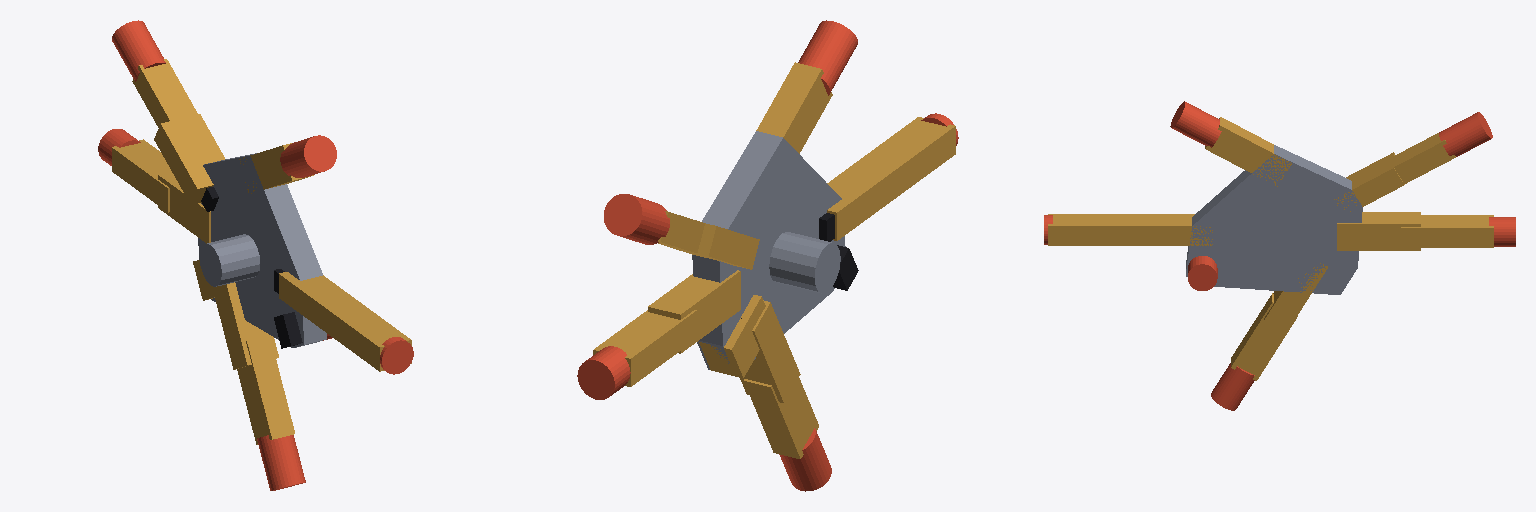
robot.urdf — g0008_c01:
<robot name="g0008_c01">
  <link name="palm">
    <visual name="palm_palm1">
      <origin xyz="0 0 0" rpy="0 0 0" />
      <geometry>
        <mesh filename="palm_palm1.obj" />
      </geometry>
      <material name="palm_palm1_mat">
        <color rgba="0.55 0.57 0.62 1" />
      </material>
    </visual>
    <collision>
      <origin xyz="0 0 0" rpy="0 0 0" />
      <geometry>
        <mesh filename="palm_palm1.obj" />
      </geometry>
    </collision>
    <visual name="palm_mount2">
      <origin xyz="0 0 0" rpy="0 0 0" />
      <geometry>
        <mesh filename="palm_mount2.obj" />
      </geometry>
      <material name="palm_mount2_mat">
        <color rgba="0.55 0.57 0.62 1" />
      </material>
    </visual>
    <collision>
      <origin xyz="0 0 0" rpy="0 0 0" />
      <geometry>
        <mesh filename="palm_mount2.obj" />
      </geometry>
    </collision>
    <visual name="palm_motor3">
      <origin xyz="-0.007 -0.08 -0.04" rpy="1.06057524e-16 -1.04719755 1.57079633" />
      <geometry>
        <box size="0.029 0.034 0.02" />
      </geometry>
      <material name="palm_motor3_mat">
        <color rgba="0.15 0.15 0.17 1" />
      </material>
    </visual>
    <collision>
      <origin xyz="-0.007 -0.08 -0.04" rpy="1.06057524e-16 -1.04719755 1.57079633" />
      <geometry>
        <box size="0.029 0.034 0.02" />
      </geometry>
    </collision>
    <visual name="palm_motor4">
      <origin xyz="-0.0045 -0.0725 1.37772765e-18" rpy="1.8369702e-16 -6.123234e-17 -1.12481984e-32" />
      <geometry>
        <box size="0.029 0.034 0.02" />
      </geometry>
      <material name="palm_motor4_mat">
        <color rgba="0.15 0.15 0.17 1" />
      </material>
    </visual>
    <collision>
      <origin xyz="-0.0045 -0.0725 1.37772765e-18" rpy="1.8369702e-16 -6.123234e-17 -1.12481984e-32" />
      <geometry>
        <box size="0.029 0.034 0.02" />
      </geometry>
    </collision>
    <visual name="palm_motor5">
      <origin xyz="0 0.00649519053 0.07625" rpy="-1.57079633 -1.04719755 1.57079633" />
      <geometry>
        <box size="0.029 0.034 0.02" />
      </geometry>
      <material name="palm_motor5_mat">
        <color rgba="0.15 0.15 0.17 1" />
      </material>
    </visual>
    <collision>
      <origin xyz="0 0.00649519053 0.07625" rpy="-1.57079633 -1.04719755 1.57079633" />
      <geometry>
        <box size="0.029 0.034 0.02" />
      </geometry>
    </collision>
    <visual name="palm_motor6">
      <origin xyz="-0.0045 0.0666996732 -0.0467548095" rpy="1.57079633 -0.523598776 -1.57079633" />
      <geometry>
        <box size="0.029 0.034 0.02" />
      </geometry>
      <material name="palm_motor6_mat">
        <color rgba="0.15 0.15 0.17 1" />
      </material>
    </visual>
    <collision>
      <origin xyz="-0.0045 0.0666996732 -0.0467548095" rpy="1.57079633 -0.523598776 -1.57079633" />
      <geometry>
        <box size="0.029 0.034 0.02" />
      </geometry>
    </collision>
    <visual name="palm_motor7">
      <origin xyz="0 0.0725 -4.5924255e-19" rpy="-3.14159265 1.57079633 0" />
      <geometry>
        <box size="0.029 0.034 0.02" />
      </geometry>
      <material name="palm_motor7_mat">
        <color rgba="0.15 0.15 0.17 1" />
      </material>
    </visual>
    <collision>
      <origin xyz="0 0.0725 -4.5924255e-19" rpy="-3.14159265 1.57079633 0" />
      <geometry>
        <box size="0.029 0.034 0.02" />
      </geometry>
    </collision>
    <visual name="palm_motor8">
      <origin xyz="-0.0045 0.0735048095 0.03625" rpy="-2.61799388 5.30287619e-17 3.061617e-17" />
      <geometry>
        <box size="0.029 0.034 0.02" />
      </geometry>
      <material name="palm_motor8_mat">
        <color rgba="0.15 0.15 0.17 1" />
      </material>
    </visual>
    <collision>
      <origin xyz="-0.0045 0.0735048095 0.03625" rpy="-2.61799388 5.30287619e-17 3.061617e-17" />
      <geometry>
        <box size="0.029 0.034 0.02" />
      </geometry>
    </collision>
    <inertial>
      <origin xyz="-2.43470265e-19 0.00452345107 0.0027561654" rpy="-1.57079633 0.24108336 -1.57079633" />
      <mass value="1.01470821" />
      <inertia ixx="0.00167691787" ixy="0" ixz="0" iyy="0.00255368598" iyz="0" izz="0.00413319186" />
    </inertial>
  </link>
  <link name="f0_link0">
    <visual name="f0_link0_link1">
      <origin xyz="0.019 0 -6.9388939e-18" rpy="-1.57079633 -0 -1.57079633" />
      <geometry>
        <cylinder radius="0.0165" length="0.029" />
      </geometry>
      <material name="f0_link0_link1_mat">
        <color rgba="0.85 0.35 0.25 1" />
      </material>
    </visual>
    <collision>
      <origin xyz="0.019 0 -6.9388939e-18" rpy="-1.57079633 -0 -1.57079633" />
      <geometry>
        <cylinder radius="0.0165" length="0.029" />
      </geometry>
    </collision>
    <inertial>
      <origin xyz="0.019 0 0" rpy="0 0 0" />
      <mass value="0.0763354" />
      <inertia ixx="9.49466441e-06" ixy="0" ixz="0" iyy="2.24143997e-05" iyz="0" izz="2.24143997e-05" />
    </inertial>
  </link>
  <link name="f1_link0">
    <visual name="f1_link0_link1">
      <origin xyz="0.03875 0 0" rpy="0 -0 0" />
      <geometry>
        <box size="0.1015 0.033 0.024" />
      </geometry>
      <material name="f1_link0_link1_mat">
        <color rgba="0.80 0.62 0.30 1" />
      </material>
    </visual>
    <collision>
      <origin xyz="0.03875 0 0" rpy="0 -0 0" />
      <geometry>
        <box size="0.1015 0.033 0.024" />
      </geometry>
    </collision>
    <inertial>
      <origin xyz="0.03875 0 0" rpy="0 0 0" />
      <mass value="0.140679" />
      <inertia ixx="1.95192113e-05" ixy="0" ixz="0" iyy="0.000127528444" iyz="0" izz="0.000133542472" />
    </inertial>
  </link>
  <link name="f1_link1">
    <visual name="f1_link1_link1">
      <origin xyz="0.03875 0 3.08148791e-33" rpy="0 -0 0" />
      <geometry>
        <box size="0.1015 0.033 0.024" />
      </geometry>
      <material name="f1_link1_link1_mat">
        <color rgba="0.80 0.62 0.30 1" />
      </material>
    </visual>
    <collision>
      <origin xyz="0.03875 0 3.08148791e-33" rpy="0 -0 0" />
      <geometry>
        <box size="0.1015 0.033 0.024" />
      </geometry>
    </collision>
    <inertial>
      <origin xyz="0.03875 0 0" rpy="0 0 0" />
      <mass value="0.140679" />
      <inertia ixx="1.95192113e-05" ixy="0" ixz="0" iyy="0.000127528444" iyz="0" izz="0.000133542472" />
    </inertial>
  </link>
  <link name="f1_link2">
    <visual name="f1_link2_link1">
      <origin xyz="0.009 0 0" rpy="-1.57079633 -0 -1.57079633" />
      <geometry>
        <cylinder radius="0.0165" length="0.009" />
      </geometry>
      <material name="f1_link2_link1_mat">
        <color rgba="0.85 0.35 0.25 1" />
      </material>
    </visual>
    <collision>
      <origin xyz="0.009 0 0" rpy="-1.57079633 -0 -1.57079633" />
      <geometry>
        <cylinder radius="0.0165" length="0.009" />
      </geometry>
    </collision>
    <inertial>
      <origin xyz="0.009 0 0" rpy="0 0 0" />
      <mass value="0.046399949" />
      <inertia ixx="5.41970115e-06" ixy="0" ixz="0" iyy="7.09430898e-06" iyz="0" izz="7.09430898e-06" />
    </inertial>
  </link>
  <link name="f2_link0">
    <visual name="f2_link0_link1">
      <origin xyz="0.03375 0 0" rpy="0 7.03853194e-17 0" />
      <geometry>
        <box size="0.0915 0.024 0.033" />
      </geometry>
      <material name="f2_link0_link1_mat">
        <color rgba="0.80 0.62 0.30 1" />
      </material>
    </visual>
    <collision>
      <origin xyz="0.03375 0 0" rpy="0 7.03853194e-17 0" />
      <geometry>
        <box size="0.0915 0.024 0.033" />
      </geometry>
    </collision>
    <inertial>
      <origin xyz="0.03375 0 0" rpy="0 0 0" />
      <mass value="0.126819" />
      <inertia ixx="1.75961363e-05" ixy="0" ixz="0" iyy="9.99888553e-05" iyz="0" izz="9.45673431e-05" />
    </inertial>
  </link>
  <link name="f2_link1">
    <visual name="f2_link1_link1">
      <origin xyz="0.029 0 -6.9388939e-18" rpy="-1.57079633 -0 -1.57079633" />
      <geometry>
        <cylinder radius="0.0165" length="0.049" />
      </geometry>
      <material name="f2_link1_link1_mat">
        <color rgba="0.85 0.35 0.25 1" />
      </material>
    </visual>
    <collision>
      <origin xyz="0.029 0 -6.9388939e-18" rpy="-1.57079633 -0 -1.57079633" />
      <geometry>
        <cylinder radius="0.0165" length="0.049" />
      </geometry>
    </collision>
    <inertial>
      <origin xyz="0.029 0 0" rpy="0 0 0" />
      <mass value="0.106270851" />
      <inertia ixx="1.35696277e-05" ixy="0" ixz="0" iyy="5.30015704e-05" iyz="0" izz="5.30015704e-05" />
    </inertial>
  </link>
  <link name="f3_link0">
    <visual name="f3_link0_link1">
      <origin xyz="-0.00625 0 -0.0165" rpy="0 4.06369831e-17 0" />
      <geometry>
        <box size="0.0365 0.029 0.053" />
      </geometry>
      <material name="f3_link0_link1_mat">
        <color rgba="0.80 0.62 0.30 1" />
      </material>
    </visual>
    <collision>
      <origin xyz="-0.00625 0 -0.0165" rpy="0 4.06369831e-17 0" />
      <geometry>
        <box size="0.0365 0.029 0.053" />
      </geometry>
    </collision>
    <inertial>
      <origin xyz="-0.00625 0 -0.0165" rpy="0 0 0" />
      <mass value="0.098175875" />
      <inertia ixx="2.98618286e-05" ixy="0" ixz="0" iyy="3.38809035e-05" iyz="0" izz="1.778006e-05" />
    </inertial>
  </link>
  <link name="f3_link1">
    <visual name="f3_link1_link1">
      <origin xyz="0.03375 0 6.9388939e-18" rpy="0 4.06369831e-17 0" />
      <geometry>
        <box size="0.0915 0.033 0.029" />
      </geometry>
      <material name="f3_link1_link1_mat">
        <color rgba="0.80 0.62 0.30 1" />
      </material>
    </visual>
    <collision>
      <origin xyz="0.03375 0 6.9388939e-18" rpy="0 4.06369831e-17 0" />
      <geometry>
        <box size="0.0915 0.033 0.029" />
      </geometry>
    </collision>
    <inertial>
      <origin xyz="0.03375 0 0" rpy="0 0 0" />
      <mass value="0.153239625" />
      <inertia ixx="2.46460397e-05" ixy="0" ixz="0" iyy="0.000117652915" iyz="0" izz="0.000120819867" />
    </inertial>
  </link>
  <link name="f3_link2">
    <visual name="f3_link2_link1">
      <origin xyz="0.03375 0 -1.38777878e-17" rpy="0 4.06369831e-17 0" />
      <geometry>
        <box size="0.0915 0.024 0.033" />
      </geometry>
      <material name="f3_link2_link1_mat">
        <color rgba="0.80 0.62 0.30 1" />
      </material>
    </visual>
    <collision>
      <origin xyz="0.03375 0 -1.38777878e-17" rpy="0 4.06369831e-17 0" />
      <geometry>
        <box size="0.0915 0.024 0.033" />
      </geometry>
    </collision>
    <inertial>
      <origin xyz="0.03375 0 0" rpy="0 0 0" />
      <mass value="0.126819" />
      <inertia ixx="1.75961363e-05" ixy="0" ixz="0" iyy="9.99888553e-05" iyz="0" izz="9.45673431e-05" />
    </inertial>
  </link>
  <link name="f3_link3">
    <visual name="f3_link3_link1">
      <origin xyz="0.029 0 1.04083409e-17" rpy="-1.57079633 -0 -1.57079633" />
      <geometry>
        <cylinder radius="0.0165" length="0.049" />
      </geometry>
      <material name="f3_link3_link1_mat">
        <color rgba="0.85 0.35 0.25 1" />
      </material>
    </visual>
    <collision>
      <origin xyz="0.029 0 1.04083409e-17" rpy="-1.57079633 -0 -1.57079633" />
      <geometry>
        <cylinder radius="0.0165" length="0.049" />
      </geometry>
    </collision>
    <inertial>
      <origin xyz="0.029 0 0" rpy="0 0 0" />
      <mass value="0.106270851" />
      <inertia ixx="1.35696277e-05" ixy="0" ixz="0" iyy="5.30015704e-05" iyz="0" izz="5.30015704e-05" />
    </inertial>
  </link>
  <link name="f4_link0">
    <visual name="f4_link0_link1">
      <origin xyz="0.03375 0 0" rpy="0 -0 0" />
      <geometry>
        <box size="0.0915 0.029 0.033" />
      </geometry>
      <material name="f4_link0_link1_mat">
        <color rgba="0.80 0.62 0.30 1" />
      </material>
    </visual>
    <collision>
      <origin xyz="0.03375 0 0" rpy="0 -0 0" />
      <geometry>
        <box size="0.0915 0.029 0.033" />
      </geometry>
    </collision>
    <inertial>
      <origin xyz="0.03375 0 0" rpy="0 0 0" />
      <mass value="0.153239625" />
      <inertia ixx="2.46460397e-05" ixy="0" ixz="0" iyy="0.000120819867" iyz="0" izz="0.000117652915" />
    </inertial>
  </link>
  <link name="f4_link1">
    <visual name="f4_link1_link1">
      <origin xyz="0.03875 0 1.54074396e-33" rpy="0 -0 0" />
      <geometry>
        <box size="0.1015 0.033 0.024" />
      </geometry>
      <material name="f4_link1_link1_mat">
        <color rgba="0.80 0.62 0.30 1" />
      </material>
    </visual>
    <collision>
      <origin xyz="0.03875 0 1.54074396e-33" rpy="0 -0 0" />
      <geometry>
        <box size="0.1015 0.033 0.024" />
      </geometry>
    </collision>
    <inertial>
      <origin xyz="0.03875 0 0" rpy="0 0 0" />
      <mass value="0.140679" />
      <inertia ixx="1.95192113e-05" ixy="0" ixz="0" iyy="0.000127528444" iyz="0" izz="0.000133542472" />
    </inertial>
  </link>
  <link name="f4_link2">
    <visual name="f4_link2_link1">
      <origin xyz="0.019 0 -7.70371978e-34" rpy="-1.57079633 -0 -1.57079633" />
      <geometry>
        <cylinder radius="0.0165" length="0.029" />
      </geometry>
      <material name="f4_link2_link1_mat">
        <color rgba="0.85 0.35 0.25 1" />
      </material>
    </visual>
    <collision>
      <origin xyz="0.019 0 -7.70371978e-34" rpy="-1.57079633 -0 -1.57079633" />
      <geometry>
        <cylinder radius="0.0165" length="0.029" />
      </geometry>
    </collision>
    <inertial>
      <origin xyz="0.019 0 0" rpy="0 0 0" />
      <mass value="0.0763354" />
      <inertia ixx="9.49466441e-06" ixy="0" ixz="0" iyy="2.24143997e-05" iyz="0" izz="2.24143997e-05" />
    </inertial>
  </link>
  <link name="f5_link0">
    <visual name="f5_link0_link1">
      <origin xyz="0.02625 -0.004 1.12757026e-17" rpy="0 -7.03853194e-17 0" />
      <geometry>
        <box size="0.0765 0.041 0.024" />
      </geometry>
      <material name="f5_link0_link1_mat">
        <color rgba="0.80 0.62 0.30 1" />
      </material>
    </visual>
    <collision>
      <origin xyz="0.02625 -0.004 1.12757026e-17" rpy="0 -7.03853194e-17 0" />
      <geometry>
        <box size="0.0765 0.041 0.024" />
      </geometry>
    </collision>
    <inertial>
      <origin xyz="0.02625 -0.004 0" rpy="0 0 0" />
      <mass value="0.131733" />
      <inertia ixx="2.47767818e-05" ixy="0" ixz="0" iyy="7.05677214e-05" iyz="0" izz="8.26981352e-05" />
    </inertial>
  </link>
  <link name="f5_link1">
    <visual name="f5_link1_link1">
      <origin xyz="0.0315 0 9.54097912e-18" rpy="0 -7.03853194e-17 0" />
      <geometry>
        <box size="0.096 0.029 0.024" />
      </geometry>
      <material name="f5_link1_link1_mat">
        <color rgba="0.80 0.62 0.30 1" />
      </material>
    </visual>
    <collision>
      <origin xyz="0.0315 0 9.54097912e-18" rpy="0 -7.03853194e-17 0" />
      <geometry>
        <box size="0.096 0.029 0.024" />
      </geometry>
    </collision>
    <inertial>
      <origin xyz="0.0315 0 0" rpy="0 0 0" />
      <mass value="0.116928" />
      <inertia ixx="1.3807248e-05" ixy="0" ixz="0" iyy="9.5413248e-05" iyz="0" izz="9.7995408e-05" />
    </inertial>
  </link>
  <link name="f5_link2">
    <visual name="f5_link2_link1">
      <origin xyz="0.029 0 1.21430643e-17" rpy="-1.57079633 -0 -1.57079633" />
      <geometry>
        <cylinder radius="0.0165" length="0.049" />
      </geometry>
      <material name="f5_link2_link1_mat">
        <color rgba="0.85 0.35 0.25 1" />
      </material>
    </visual>
    <collision>
      <origin xyz="0.029 0 1.21430643e-17" rpy="-1.57079633 -0 -1.57079633" />
      <geometry>
        <cylinder radius="0.0165" length="0.049" />
      </geometry>
    </collision>
    <inertial>
      <origin xyz="0.029 0 0" rpy="0 0 0" />
      <mass value="0.106270851" />
      <inertia ixx="1.35696277e-05" ixy="0" ixz="0" iyy="5.30015704e-05" iyz="0" izz="5.30015704e-05" />
    </inertial>
  </link>
  <joint name="f0_j0" type="revolute">
    <parent link="palm" />
    <child link="f0_link0" />
    <origin xyz="0.0005 -0.08 -0.04" rpy="1.04719755 5.30287619e-17 -3.061617e-17" />
    <axis xyz="0 1 6.123234e-17" />
    <limit effort="0.5" lower="-0.523598776" upper="0.523598776" velocity="5" />
    <dynamics damping="0.0775033" friction="0" />
  </joint>
  <joint name="f1_j0" type="revolute">
    <parent link="palm" />
    <child link="f1_link0" />
    <origin xyz="-0.0045 -0.08 0" rpy="0 1.8369702e-16 -1.57079633" />
    <axis xyz="-0 -1 -6.123234e-17" />
    <limit effort="0.5" lower="-0.523598776" upper="0.523598776" velocity="5" />
    <dynamics damping="0.0775033" friction="0" />
  </joint>
  <joint name="f1_j1" type="revolute">
    <parent link="f1_link0" />
    <child link="f1_link1" />
    <origin xyz="0.08 0 0" rpy="0 0 0" />
    <axis xyz="-0 -1 -6.123234e-17" />
    <limit effort="0.5" lower="-0.523598776" upper="0.523598776" velocity="5" />
    <dynamics damping="0.0775033" friction="0" />
  </joint>
  <joint name="f1_j2" type="revolute">
    <parent link="f1_link1" />
    <child link="f1_link2" />
    <origin xyz="0.08 0 0" rpy="0 0 0" />
    <axis xyz="-0 -1 -6.123234e-17" />
    <limit effort="0.5" lower="-0.523598776" upper="0.523598776" velocity="5" />
    <dynamics damping="0.0775033" friction="0" />
  </joint>
  <joint name="f2_j0" type="revolute">
    <parent link="palm" />
    <child link="f2_link0" />
    <origin xyz="0 0 0.08" rpy="-0 -0.523598776 -1.57079633" />
    <axis xyz="0 0 1" />
    <limit effort="0.5" lower="-0.523598776" upper="1.57079633" velocity="5" />
    <dynamics damping="0.0775033" friction="0" />
  </joint>
  <joint name="f2_j1" type="revolute">
    <parent link="f2_link0" />
    <child link="f2_link1" />
    <origin xyz="0.07 0 0" rpy="0 0 0" />
    <axis xyz="0 0 1" />
    <limit effort="0.5" lower="-0.523598776" upper="1.57079633" velocity="5" />
    <dynamics damping="0.0775033" friction="0" />
  </joint>
  <joint name="f3_j0" type="revolute">
    <parent link="palm" />
    <child link="f3_link0" />
    <origin xyz="-0.0045 0.04 -0.04" rpy="0 1.04719755 -1.57079633" />
    <axis xyz="0 0 1" />
    <limit effort="0.5" lower="-0.523598776" upper="1.57079633" velocity="5" />
    <dynamics damping="0.0775033" friction="0" />
  </joint>
  <joint name="f3_j1" type="revolute">
    <parent link="f3_link0" />
    <child link="f3_link1" />
    <origin xyz="0 0 0" rpy="0 0 0" />
    <axis xyz="0 1 6.123234e-17" />
    <limit effort="0.5" lower="-0.523598776" upper="0.523598776" velocity="5" />
    <dynamics damping="0.0775033" friction="0" />
  </joint>
  <joint name="f3_j2" type="revolute">
    <parent link="f3_link1" />
    <child link="f3_link2" />
    <origin xyz="0.07 0 0" rpy="0 0 0" />
    <axis xyz="0 0 1" />
    <limit effort="0.5" lower="-0.523598776" upper="1.57079633" velocity="5" />
    <dynamics damping="0.0775033" friction="0" />
  </joint>
  <joint name="f3_j3" type="revolute">
    <parent link="f3_link2" />
    <child link="f3_link3" />
    <origin xyz="0.07 0 0" rpy="0 0 0" />
    <axis xyz="0 0 1" />
    <limit effort="0.5" lower="-0.523598776" upper="1.57079633" velocity="5" />
    <dynamics damping="0.0775033" friction="0" />
  </joint>
  <joint name="f4_j0" type="revolute">
    <parent link="palm" />
    <child link="f4_link0" />
    <origin xyz="0 0.08 0" rpy="-3.14159265 -6.123234e-17 1.57079633" />
    <axis xyz="0 0 1" />
    <limit effort="0.5" lower="-0.523598776" upper="1.57079633" velocity="5" />
    <dynamics damping="0.0775033" friction="0" />
  </joint>
  <joint name="f4_j1" type="revolute">
    <parent link="f4_link0" />
    <child link="f4_link1" />
    <origin xyz="0.07 0 0" rpy="0 0 0" />
    <axis xyz="0 1 6.123234e-17" />
    <limit effort="0.5" lower="-0.523598776" upper="0.523598776" velocity="5" />
    <dynamics damping="0.0775033" friction="0" />
  </joint>
  <joint name="f4_j2" type="revolute">
    <parent link="f4_link1" />
    <child link="f4_link2" />
    <origin xyz="0.08 0 0" rpy="0 0 0" />
    <axis xyz="0 1 6.123234e-17" />
    <limit effort="0.5" lower="-0.523598776" upper="0.523598776" velocity="5" />
    <dynamics damping="0.0775033" friction="0" />
  </joint>
  <joint name="f5_j0" type="revolute">
    <parent link="palm" />
    <child link="f5_link0" />
    <origin xyz="-0.0045 0.08 0.04" rpy="-3.14159265 -0.523598776 1.57079633" />
    <axis xyz="-0 -1 -6.123234e-17" />
    <limit effort="0.5" lower="-0.523598776" upper="0.523598776" velocity="5" />
    <dynamics damping="0.0775033" friction="0" />
  </joint>
  <joint name="f5_j1" type="revolute">
    <parent link="f5_link0" />
    <child link="f5_link1" />
    <origin xyz="0.05 0 0" rpy="0 0 0" />
    <axis xyz="1 0 6.123234e-17" />
    <limit effort="0.5" lower="-1.57079633" upper="1.57079633" velocity="5" />
    <dynamics damping="0.0775033" friction="0" />
  </joint>
  <joint name="f5_j2" type="revolute">
    <parent link="f5_link1" />
    <child link="f5_link2" />
    <origin xyz="0.07 0 0" rpy="0 0 0" />
    <axis xyz="-0 -1 -6.123234e-17" />
    <limit effort="0.5" lower="-0.523598776" upper="0.523598776" velocity="5" />
    <dynamics damping="0.0775033" friction="0" />
  </joint>
</robot>

--- Render facts (derived) ---
3 views of the same robot in one strip: view 1: azimuth 30°, elevation 25°; view 2: azimuth 150°, elevation 25°; view 3: azimuth 270°, elevation 25° (orthographic).
Robot: g0008_c01 — 17 links, 16 joints (16 revolute); root link palm; default pose: every joint at zero.
Visible links, largest first — view 1: palm, f3_link2, f5_link1, f5_link0, f1_link1, f1_link0, f4_link1, f3_link1, f3_link3, f2_link1, f5_link2, f4_link0 (+3 smaller); view 2: palm, f4_link1, f2_link0, f1_link1, f1_link0, f4_link0, f3_link2, f3_link1, f5_link2, f2_link1, f3_link0, f4_link2 (+3 smaller); view 3: palm, f4_link1, f4_link0, f1_link1, f1_link0, f2_link0, f3_link2, f5_link1, f5_link0, f5_link2, f2_link1, f3_link1 (+3 smaller).
Boxes of the visible links, <box> form: palm: <box>198,153,326,348</box>; f3_link2: <box>237,336,294,444</box>; f5_link1: <box>132,59,212,147</box>; f5_link0: <box>154,114,224,204</box>; f1_link1: <box>323,300,411,371</box>; f1_link0: <box>279,272,365,329</box>; f4_link1: <box>112,139,170,212</box>; f3_link1: <box>212,282,278,369</box>; f3_link3: <box>257,435,305,490</box>; f2_link1: <box>280,135,336,177</box>; f5_link2: <box>112,20,165,81</box>; f4_link0: <box>158,171,210,243</box>; palm: <box>692,131,858,369</box>; f4_link1: <box>593,310,696,386</box>; f2_link0: <box>756,62,832,153</box>; f1_link1: <box>853,117,955,191</box>; f1_link0: <box>827,155,903,240</box>; f4_link0: <box>648,270,740,353</box>; f3_link2: <box>744,378,818,458</box>; f3_link1: <box>740,300,800,402</box>; f5_link2: <box>604,194,669,244</box>; f2_link1: <box>798,20,857,95</box>; f3_link0: <box>699,295,765,378</box>; f4_link2: <box>577,346,630,399</box>; palm: <box>1186,145,1362,294</box>; f4_link1: <box>1401,215,1493,247</box>; f4_link0: <box>1337,212,1420,250</box>; f1_link1: <box>1048,214,1140,245</box>; f1_link0: <box>1121,214,1212,245</box>; f2_link0: <box>1205,117,1291,186</box>; f3_link2: <box>1231,293,1297,380</box>; f5_link1: <box>1369,133,1455,183</box>; f5_link0: <box>1334,152,1404,211</box>; f5_link2: <box>1439,112,1492,156</box>; f2_link1: <box>1170,101,1221,147</box>; f3_link1: <box>1264,263,1327,331</box>.
Size in the robot's own frame: 0.086 by 0.517 by 0.3719 metres.
Meshes: 2 distinct files referenced, 2 mesh visuals loaded (2 OBJ).
